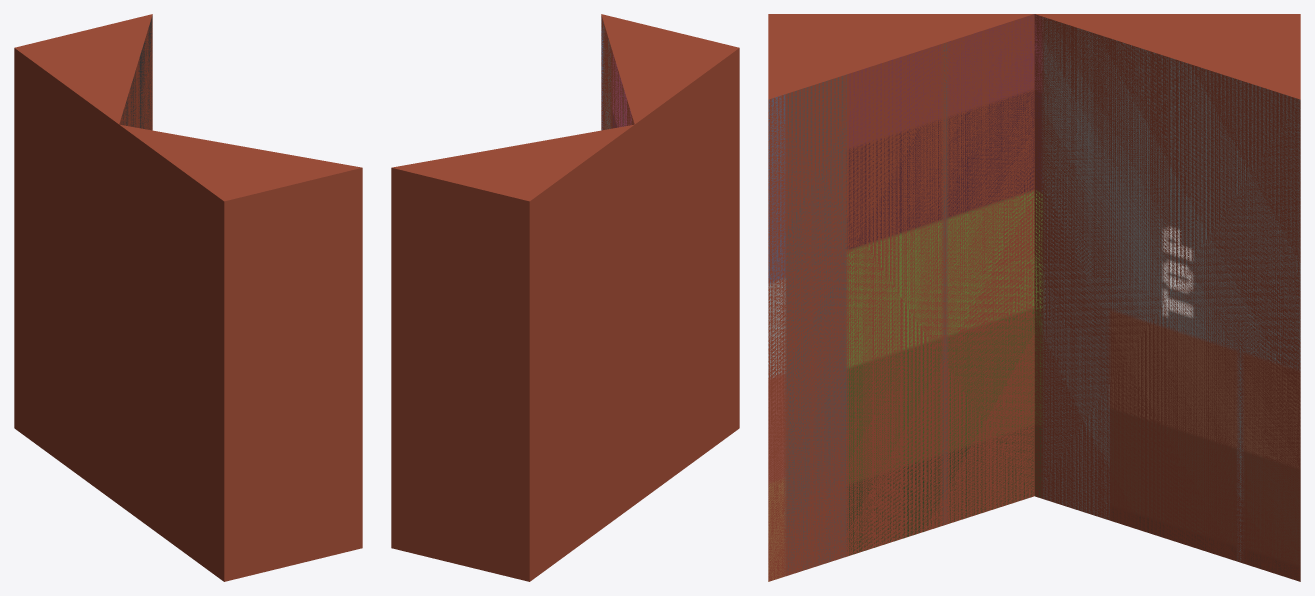
Rendered from r3c7_border_brown.gltf.
3 renders of one model, left to right at view 1: azimuth 30°, elevation 25°; view 2: azimuth 150°, elevation 25°; view 3: azimuth 270°, elevation 25°, orthographic. The views are drawn at different scales.
Parts seen in each view (by area): view 1: r3c7_border_brown; view 2: r3c7_border_brown; view 3: r3c7_border_brown.
Boxes of the visible parts, <box> form: r3c7_border_brown: <box>14,14,362,581</box>; r3c7_border_brown: <box>391,14,739,581</box>; r3c7_border_brown: <box>768,14,1300,581</box>.
Size of the model in its own units: 0.8 by 2.1 by 2.1.
1 material, 1 textured.
